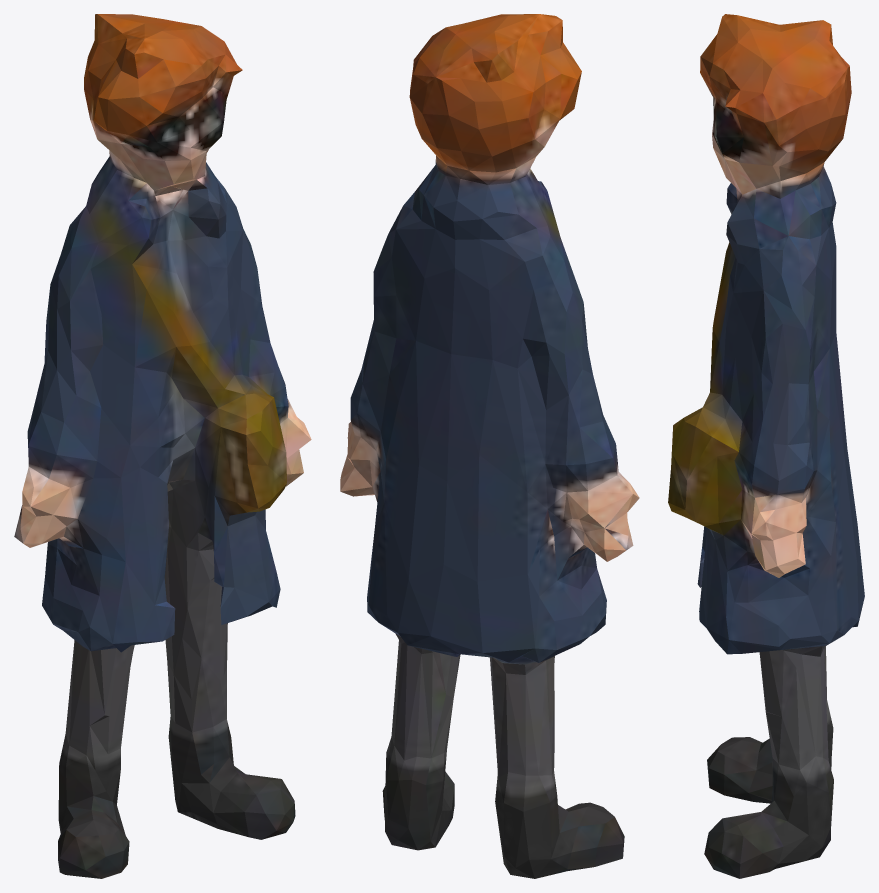
File: equipier-loin.glb
3 renders of one model, left to right at view 1: azimuth 30°, elevation 25°; view 2: azimuth 150°, elevation 25°; view 3: azimuth 270°, elevation 25°, orthographic. The views are drawn at different scales.
Parts seen in each view (by area): view 1: habitant; view 2: habitant; view 3: habitant.
Boxes of the visible parts, bbox=[...] form: habitant: bbox=[14, 14, 311, 878]; habitant: bbox=[340, 14, 639, 878]; habitant: bbox=[668, 14, 864, 878].
Bounding box in the file's own units: 0.3654 × 1.01 × 0.2263.
Materials: 1 (1 with a texture image).
